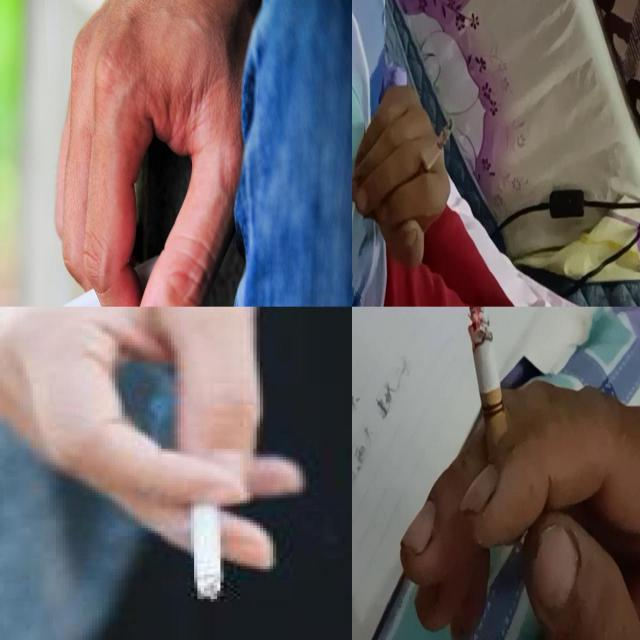cigarette: (468, 306, 520, 506), (17, 252, 166, 306), (189, 474, 226, 600), (414, 119, 454, 184)
